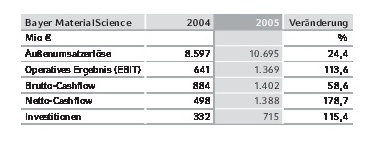table: (0, 0, 372, 144)
